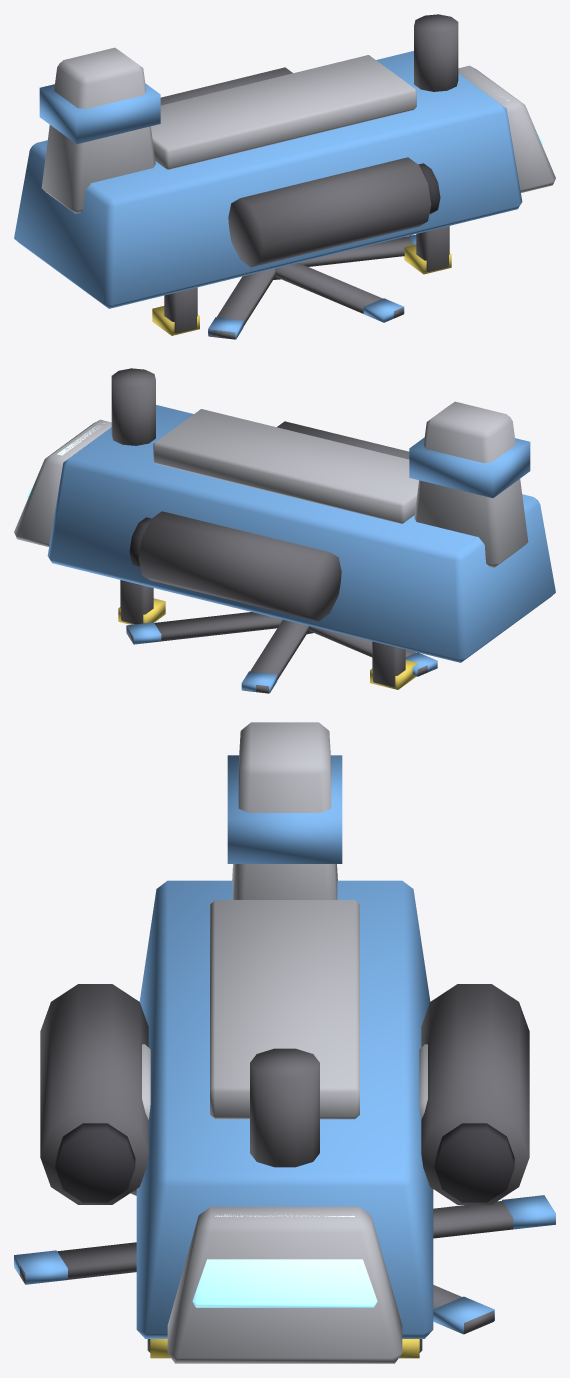
File: carrier.glb
3 views of the same model, one above another, from view 1: azimuth 30°, elevation 25°; view 2: azimuth 150°, elevation 25°; view 3: azimuth 270°, elevation 25° (orthographic). The views are drawn at different scales.
Visible parts, largest first — view 1: body, rotor2, rotor; view 2: body, rotor2, rotor; view 3: body, rotor, rotor2.
Part boxes in pixels (x1,y1,x2,y2): body: [14, 14, 555, 335]; rotor2: [208, 235, 416, 339]; rotor: [208, 235, 416, 339]; body: [14, 368, 555, 689]; rotor2: [126, 612, 437, 693]; rotor: [126, 619, 434, 693]; body: [40, 722, 529, 1363]; rotor: [14, 1189, 555, 1334]; rotor2: [33, 1203, 555, 1309].
Bounding box in the file's own units: 0.9972 × 0.51 × 0.6515.
